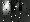person: (4, 1, 12, 16), (17, 3, 22, 15)
